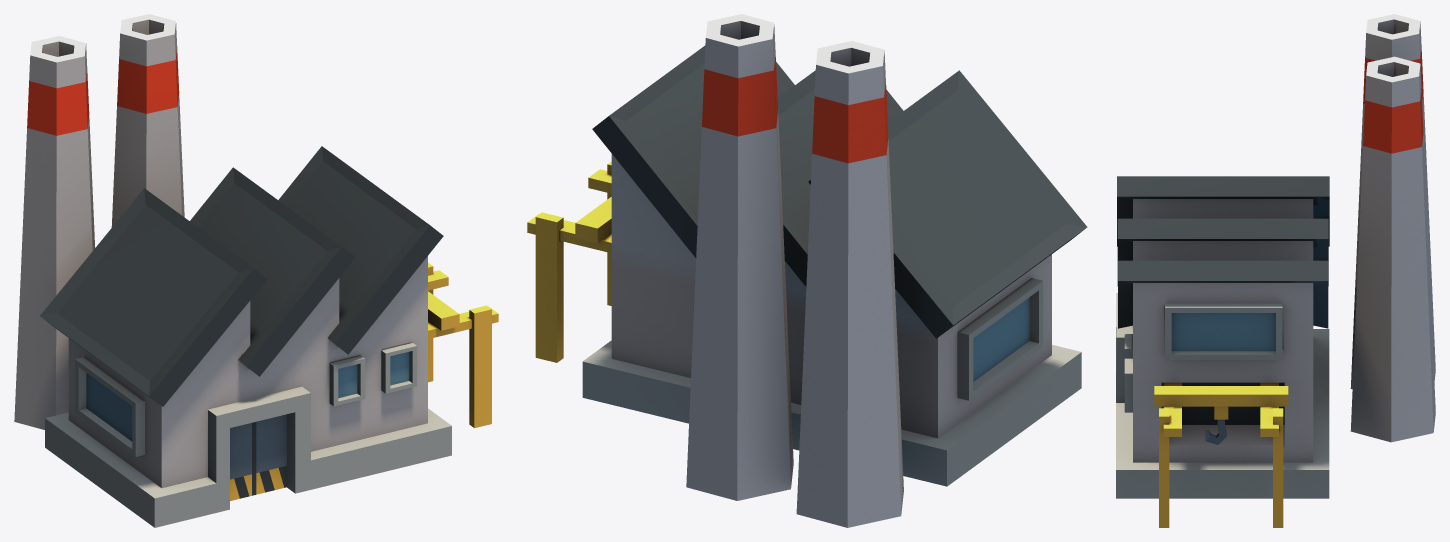
File: transformer_5000.obj
3 views of the same model, side by side, from view 1: azimuth 30°, elevation 25°; view 2: azimuth 150°, elevation 25°; view 3: azimuth 270°, elevation 25° (orthographic). The views are drawn at different scales.
Parts seen in each view (by area): view 1: transformer_100; view 2: transformer_100; view 3: transformer_100.
Boxes of the visible parts, x1,y1,x2,y2 form: transformer_100: [14, 14, 498, 527]; transformer_100: [527, 14, 1087, 527]; transformer_100: [1116, 14, 1435, 527].
Bounding box in the file's own units: 1.82 × 1.69 × 1.39.
Materials: 1 (1 with a texture image).
